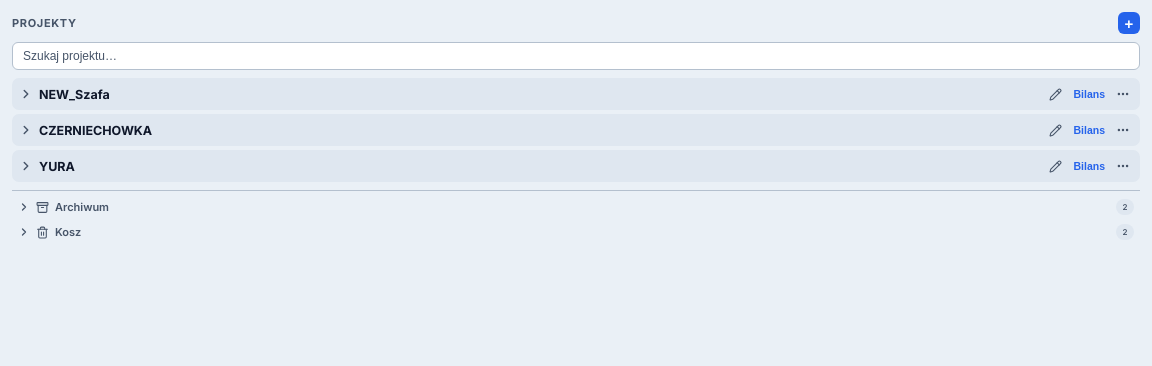
Test case: ProjectListPanel Archiwum and Kosz › keeps the same client independently expanded in the tree and in Archiwum
This screenshot has width=1152, height=366.
Click the button "Archiwum 2" at {"x": 82, "y": 207}, box [12, 195, 1140, 219]
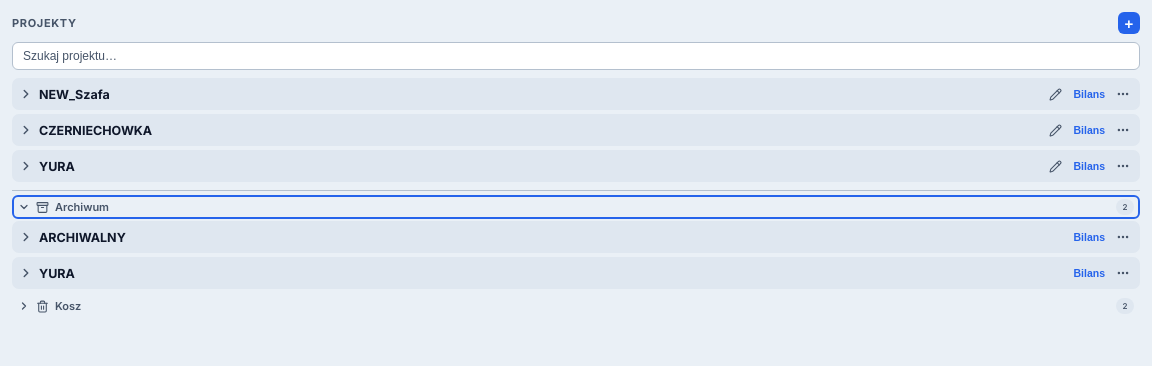
Click the 2nd button "YURA" at {"x": 57, "y": 273}, box [13, 258, 1068, 288]
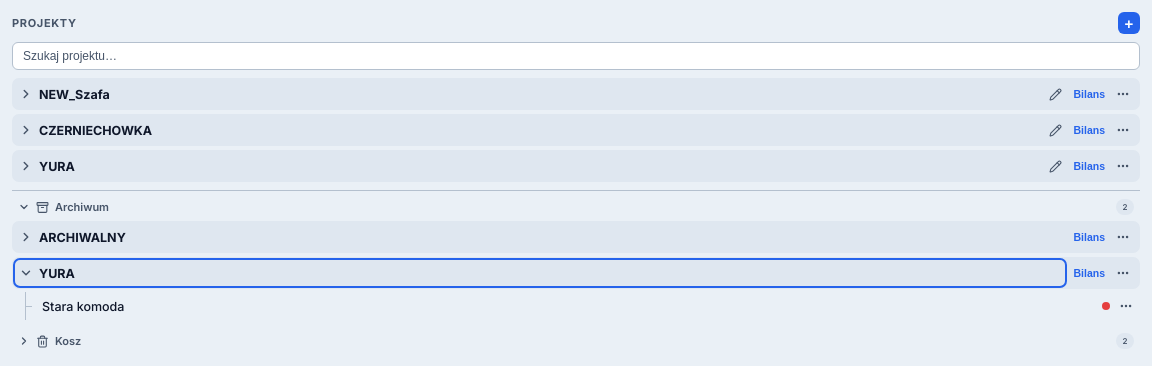
Expected: the 2nd button "YURA" is expanded, [13, 258, 1068, 288]
Expected: the button "Stara komoda" is shown, [42, 298, 1110, 314]
